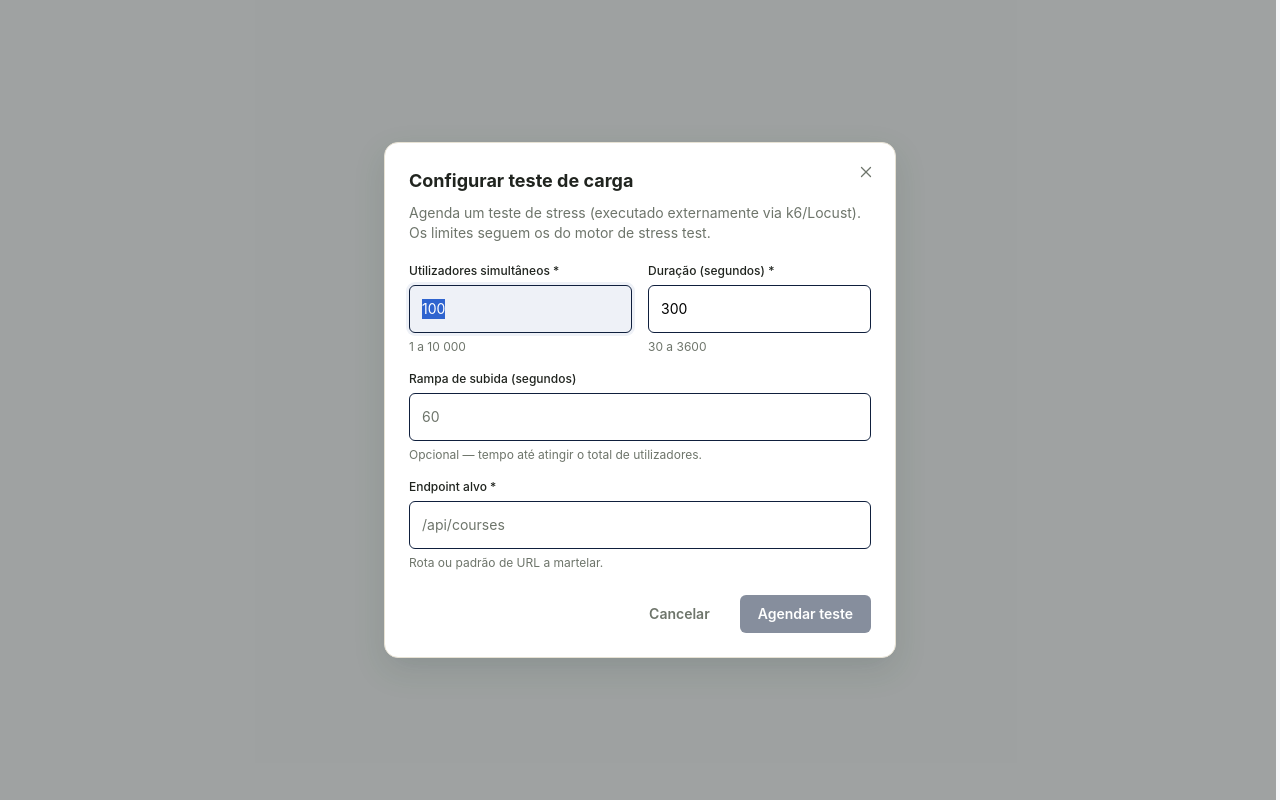
LoadTestModal › rejeita duração abaixo de 30s
Type "/x" into the field labelled "Endpoint alvo *" at (640, 525), box [409, 501, 871, 549]
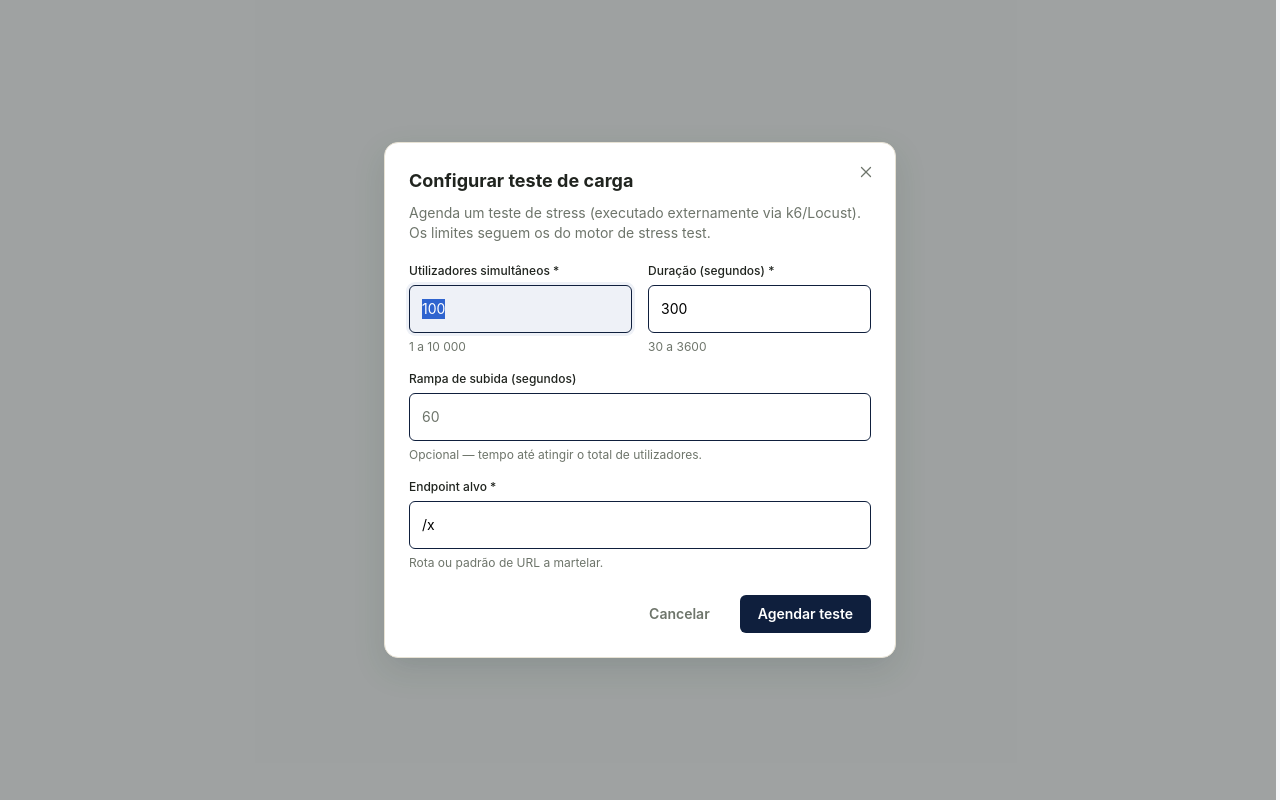
Type "10" into the field labelled "Duração (segundos) *" at (760, 309), box [648, 285, 871, 333]
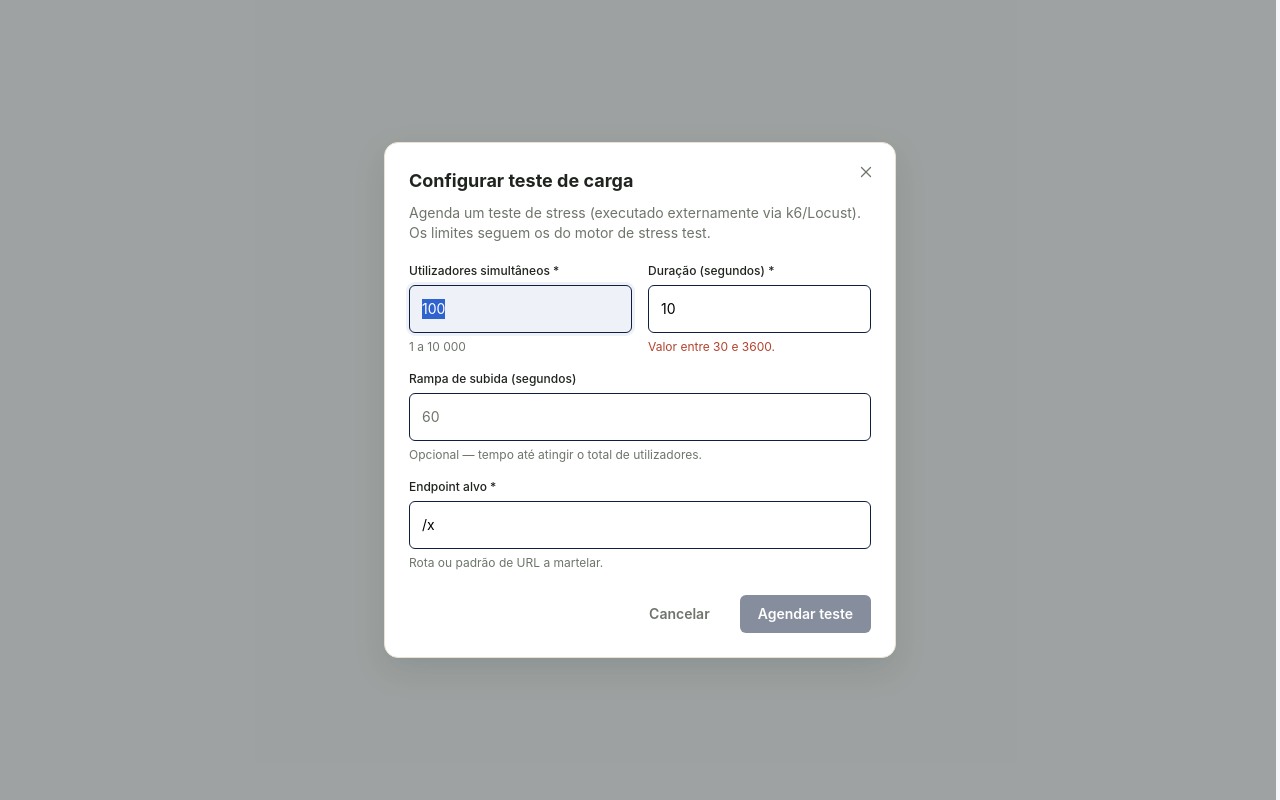
Result: the button "Agendar teste" is disabled at [740, 595, 871, 633]
